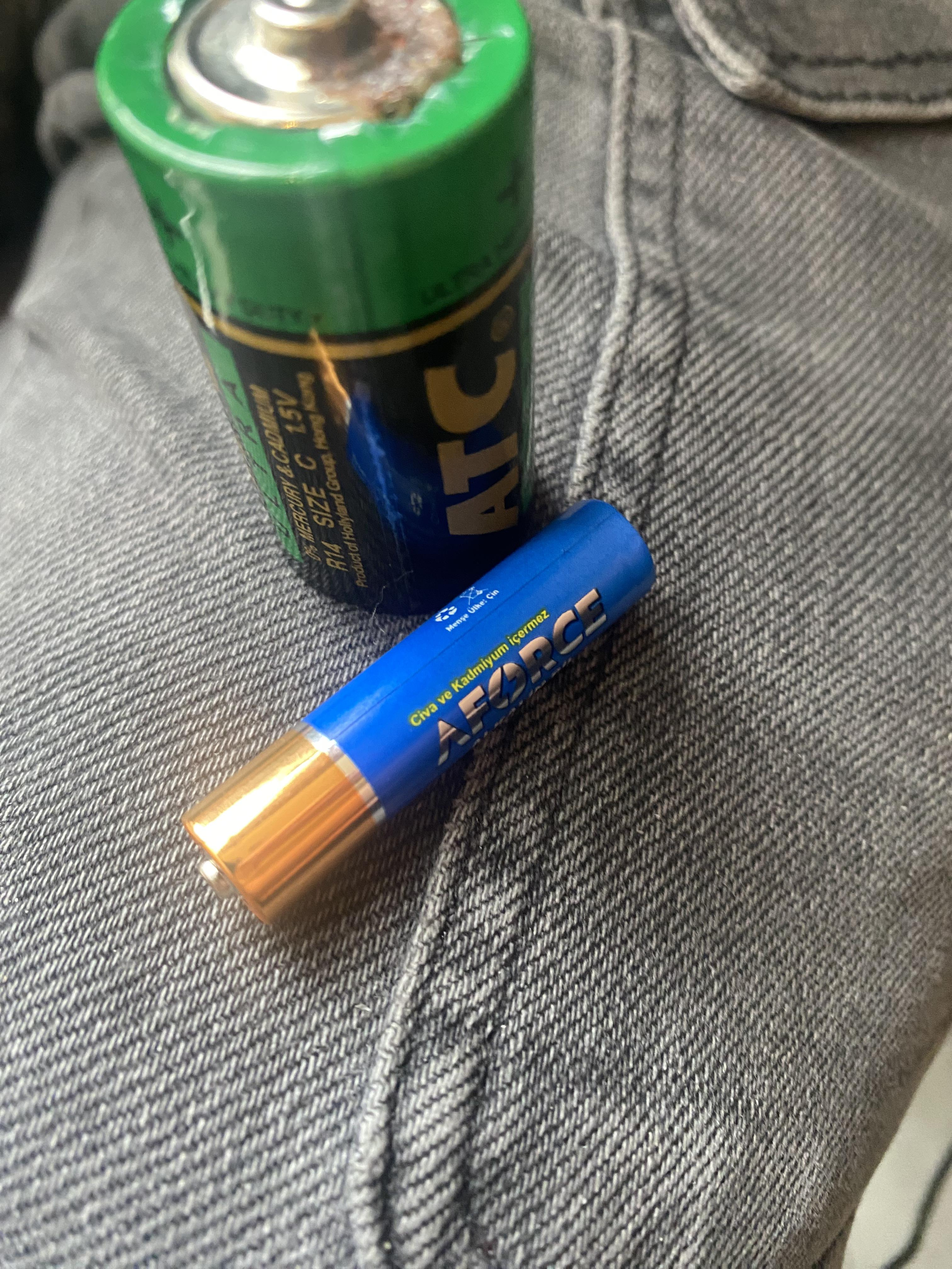AA: (180, 496, 657, 930)
